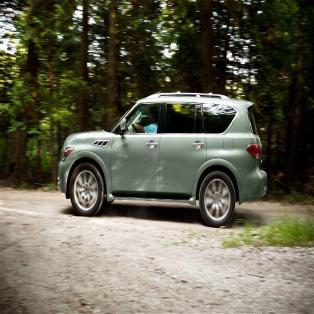Auto: (55, 90, 269, 228)
